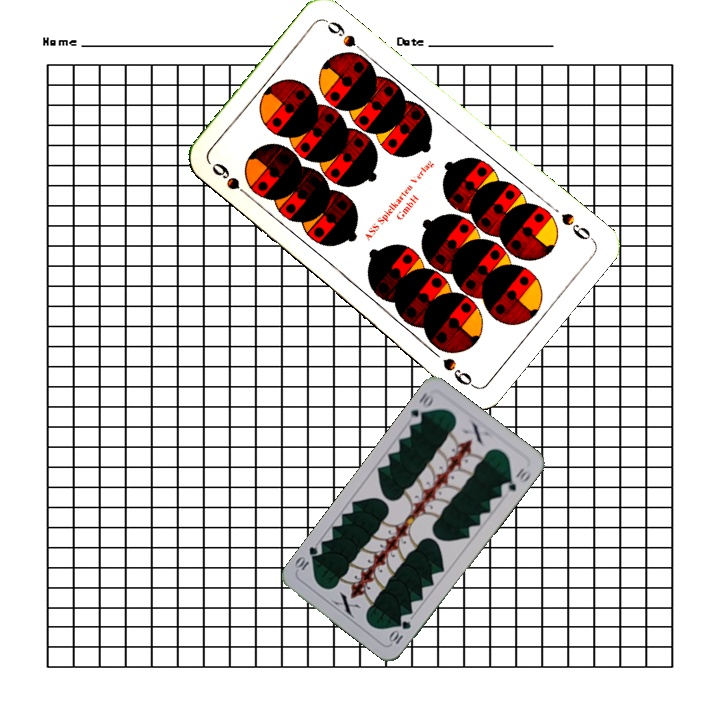G10: (404, 388, 437, 427), (385, 617, 414, 647)
S9: (207, 158, 256, 203), (557, 208, 597, 244)
